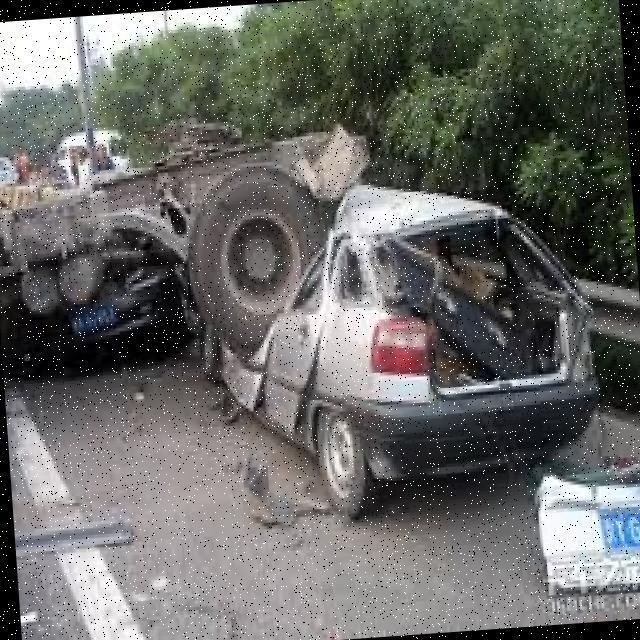accident: (0, 114, 620, 512)
